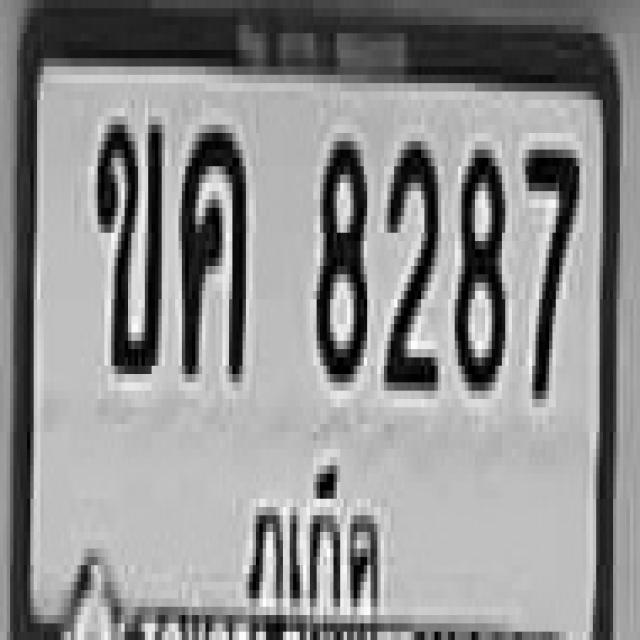11KhorKhai: (94, 116, 158, 366)
13KhorKhwai: (178, 116, 242, 374)
2: (380, 133, 434, 382)
7: (522, 141, 576, 391)
8: (313, 133, 364, 374), (451, 142, 502, 382)
Phuket: (244, 451, 385, 629)
